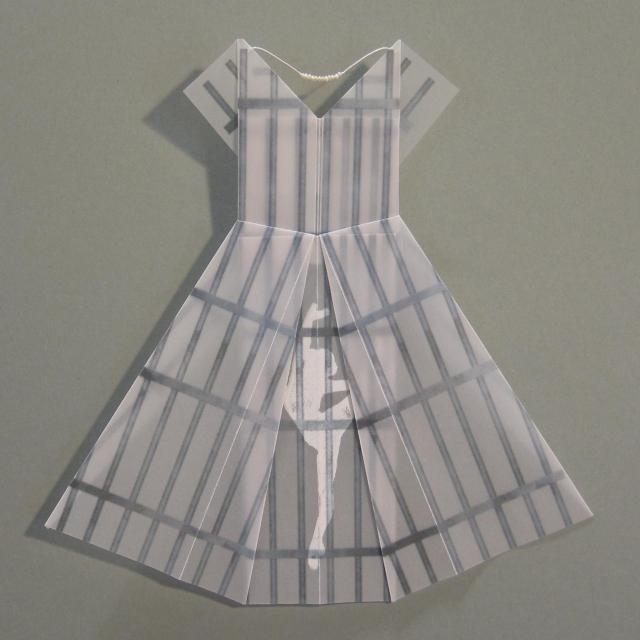Dress: (37, 35, 596, 608)
